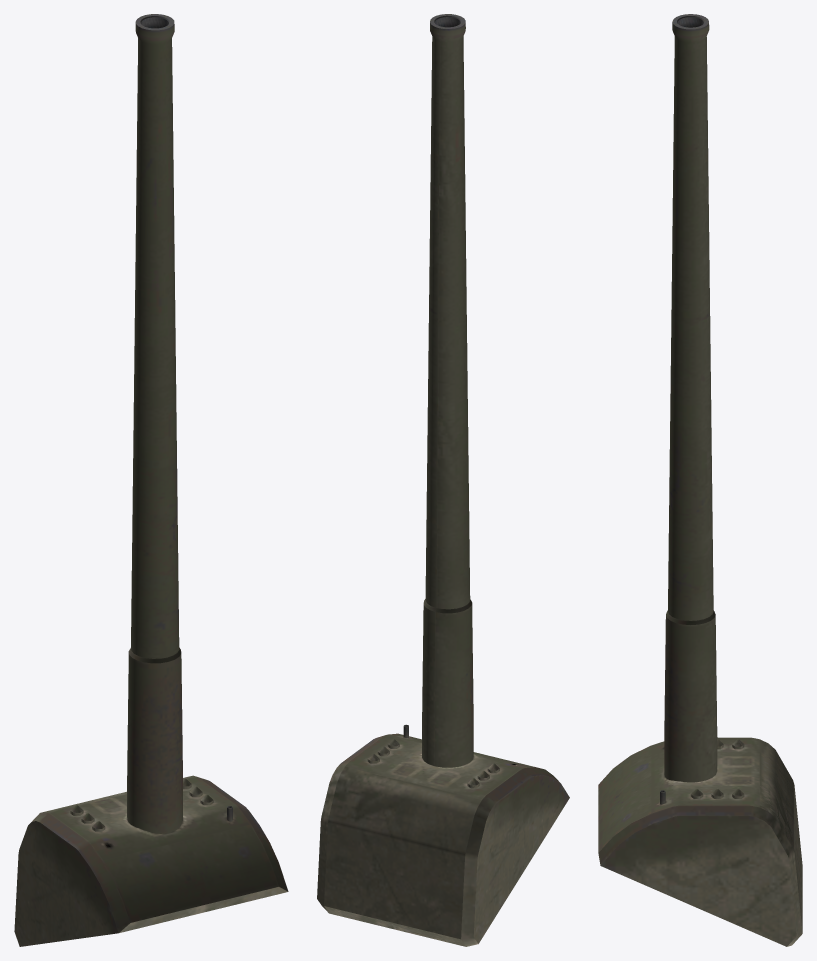
File: Gun_04.glb
3 renders of one model, left to right at view 1: azimuth 30°, elevation 25°; view 2: azimuth 150°, elevation 25°; view 3: azimuth 270°, elevation 25°, orthographic. The views are drawn at different scales.
Parts seen in each view (by area): view 1: set_0_group_0; view 2: set_0_group_0; view 3: set_0_group_0.
Part boxes in pixels (bbox=[...]): set_0_group_0: bbox=[14, 14, 288, 946]; set_0_group_0: bbox=[317, 14, 569, 946]; set_0_group_0: bbox=[598, 14, 802, 946].
Bounding box in the file's own units: 0.7475 × 3.98 × 0.8277.
1 material, 1 textured.
